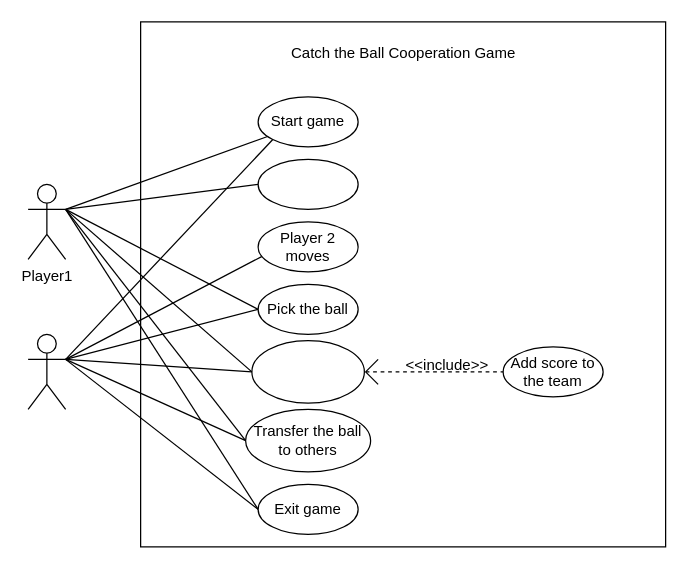
The diagram is 688 pixels wide and 569 high, and some of its shapes have lost their labels. The shapes that lost their labels are listed below. From the top down, each one's centre as x and y in pixels, then its label:
At point 307,183: "Player 1 moves".
At point 46,371: "Player2".
At point 307,371: "Drop the ball to the goal".
